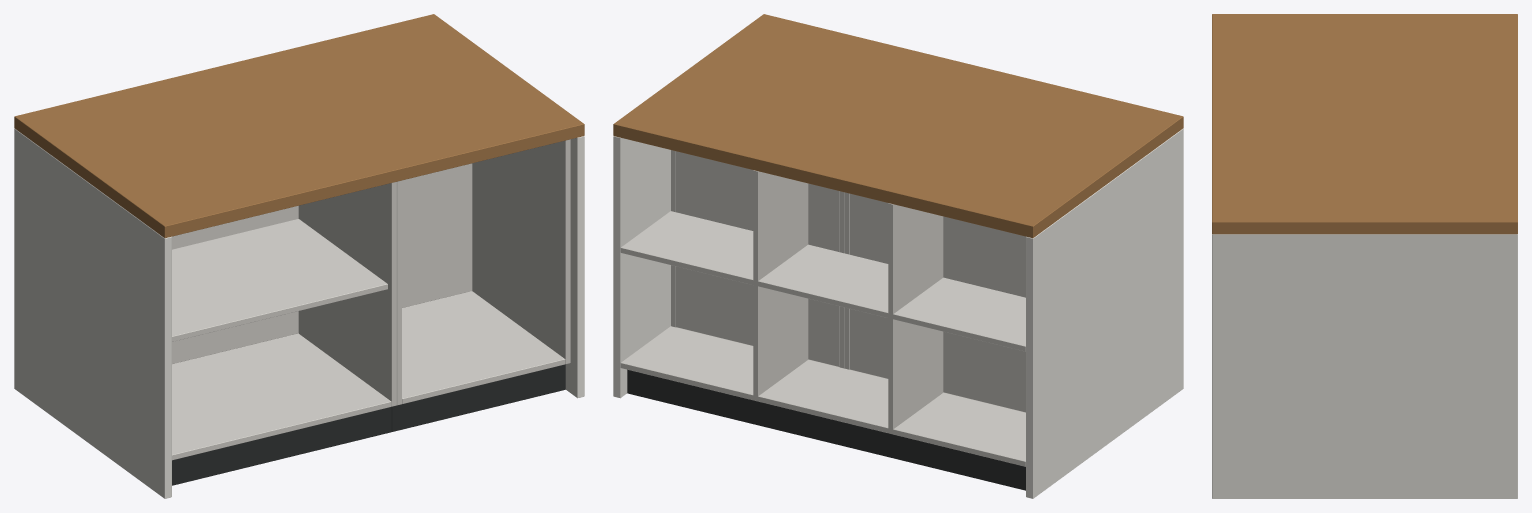
File: kitchen_island_body.glb
The picture shows the model from 3 angles, left to right: view 1: azimuth 30°, elevation 25°; view 2: azimuth 150°, elevation 25°; view 3: azimuth 270°, elevation 25°; orthographic projection.
Visible parts, largest first — view 1: kitchen_island_body; view 2: kitchen_island_body; view 3: kitchen_island_body.
Boxes of the visible parts, x1,y1,x2,y2 form: kitchen_island_body: (14, 14, 584, 498); kitchen_island_body: (613, 14, 1183, 498); kitchen_island_body: (1212, 14, 1517, 498).
Bounding box in the file's own units: 1.45 × 0.9 × 0.9.
